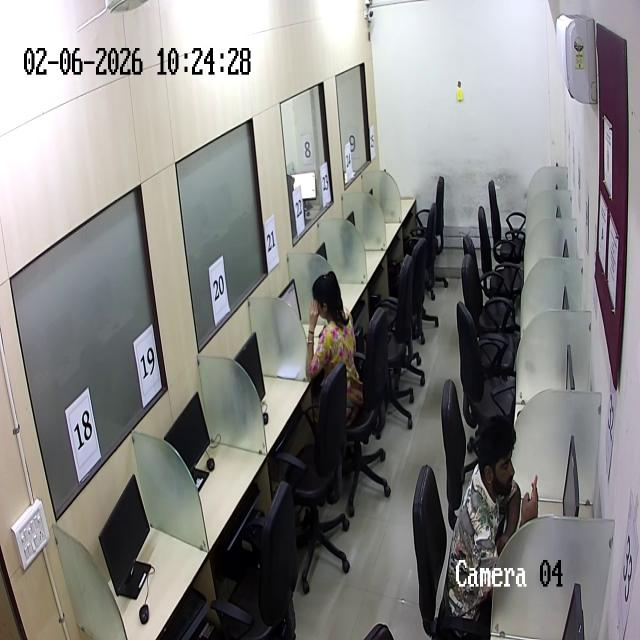phone: (530, 474, 538, 500)
